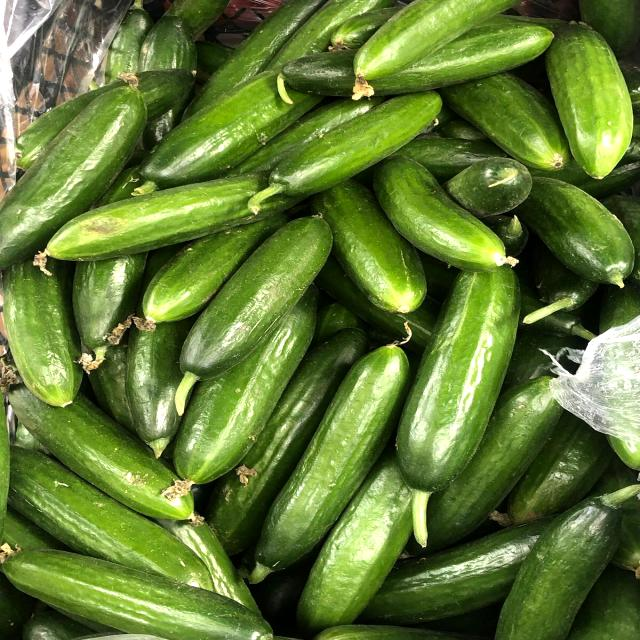cucumber: (243, 323, 429, 587), (390, 244, 522, 549), (247, 81, 468, 217), (525, 14, 640, 184)
